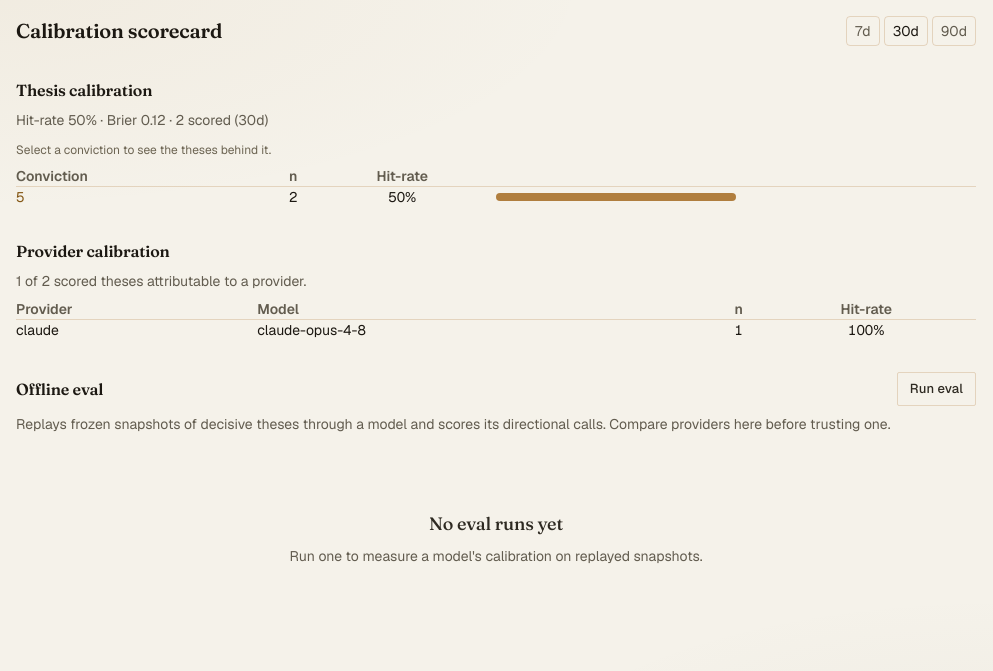
ScorecardPage › reveals the drill-down theses when a conviction is clicked
Click the button "5" at (20, 197), box [16,187,24,207]
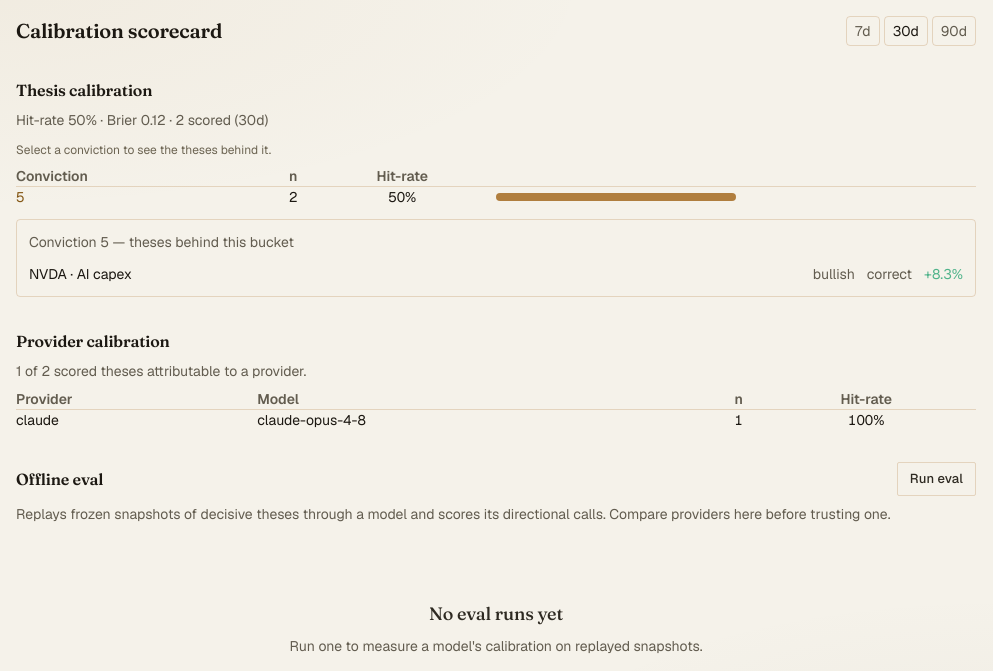
Expected: the text "correct" is shown, [867,264,912,284]
